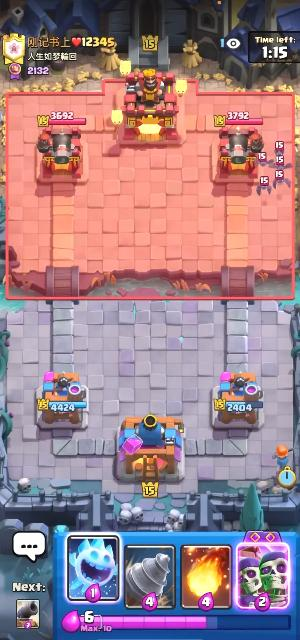ally_melee: (272, 445, 294, 470)
enemy_air: (268, 160, 293, 171), (273, 177, 290, 189), (273, 141, 286, 156), (256, 184, 272, 196), (254, 158, 274, 167)
